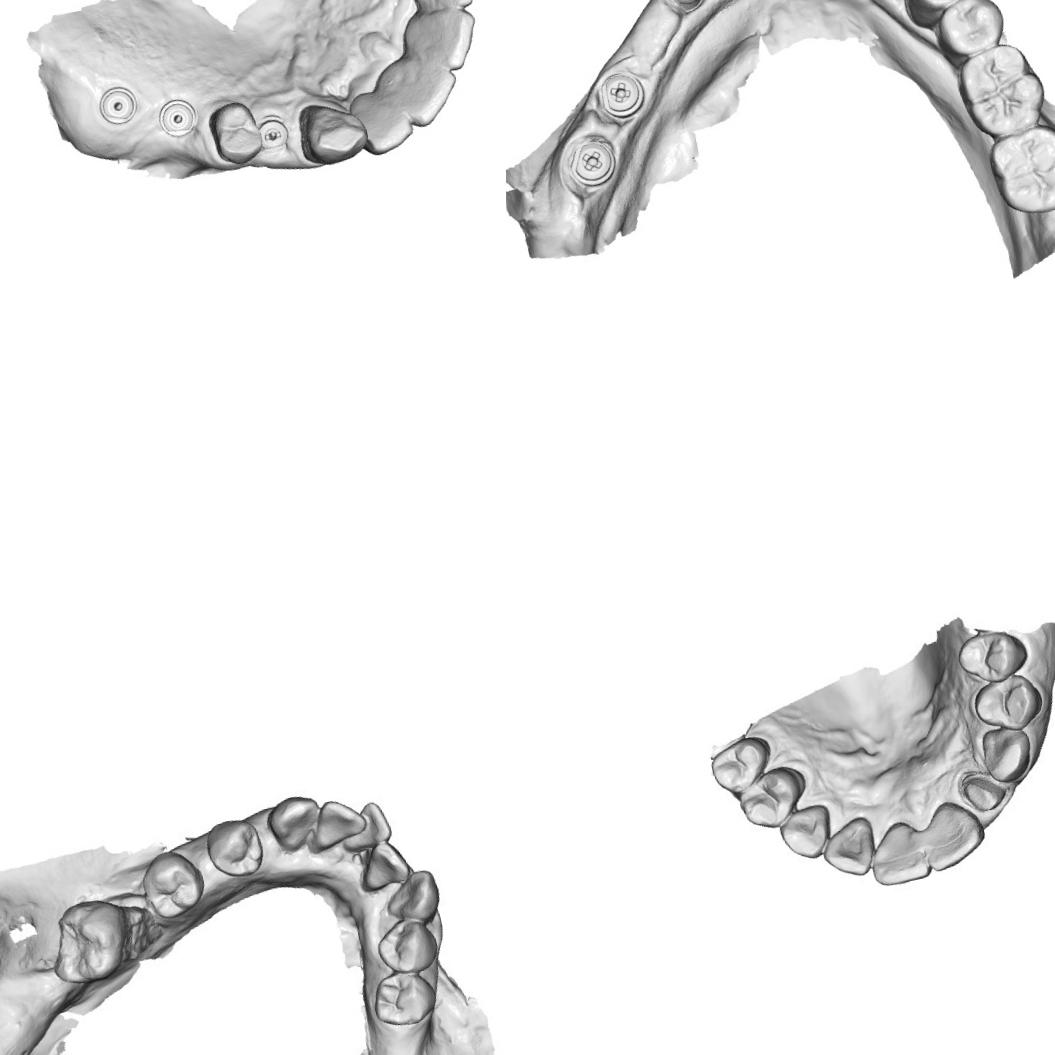canine: (291, 93, 372, 171), (264, 792, 328, 856), (773, 802, 837, 866), (381, 869, 446, 928), (981, 722, 1039, 785)
crown: (955, 765, 1011, 821)
implant: (152, 93, 201, 144), (94, 82, 142, 129)
implant_minus: (254, 111, 292, 155), (666, 0, 714, 12)
implant_plus: (560, 133, 620, 191), (593, 64, 650, 120)
incisor: (378, 48, 466, 134), (394, 0, 485, 80), (916, 796, 989, 874), (346, 83, 419, 160), (860, 816, 931, 890), (819, 814, 881, 883), (313, 791, 374, 856), (339, 793, 395, 852), (354, 840, 407, 894), (404, 0, 479, 17)
molar: (949, 38, 1051, 146), (40, 892, 140, 990), (983, 120, 1055, 222)
premolar: (730, 764, 811, 836), (136, 844, 210, 922), (928, 0, 1009, 62), (204, 95, 268, 170), (706, 733, 774, 797), (205, 812, 268, 880), (369, 918, 439, 978), (974, 672, 1044, 732), (370, 967, 438, 1028), (958, 628, 1026, 684), (898, 0, 975, 17)
